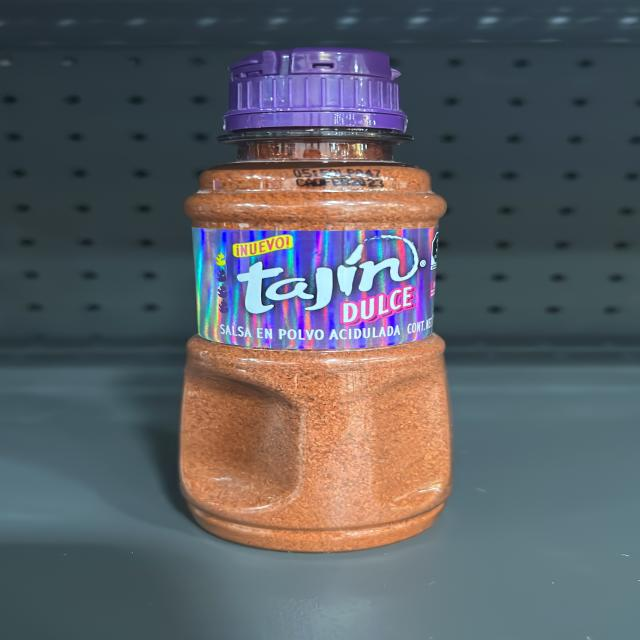tajinDulce: (181, 46, 452, 544)
